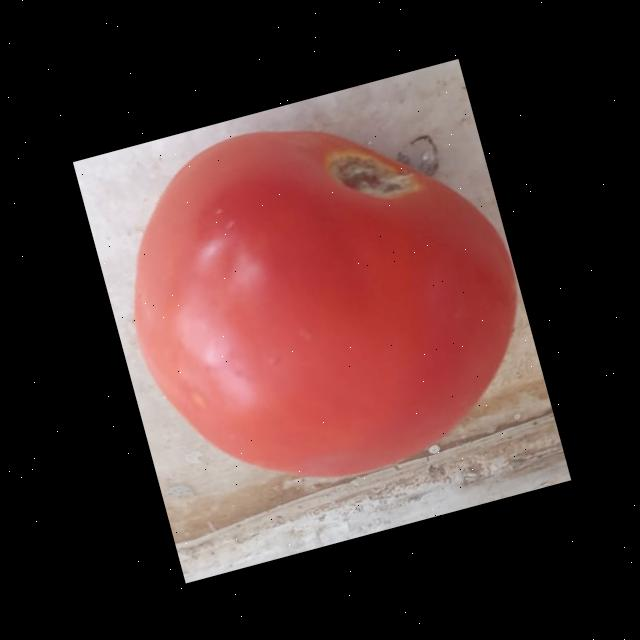tomato: (90, 68, 556, 537)
